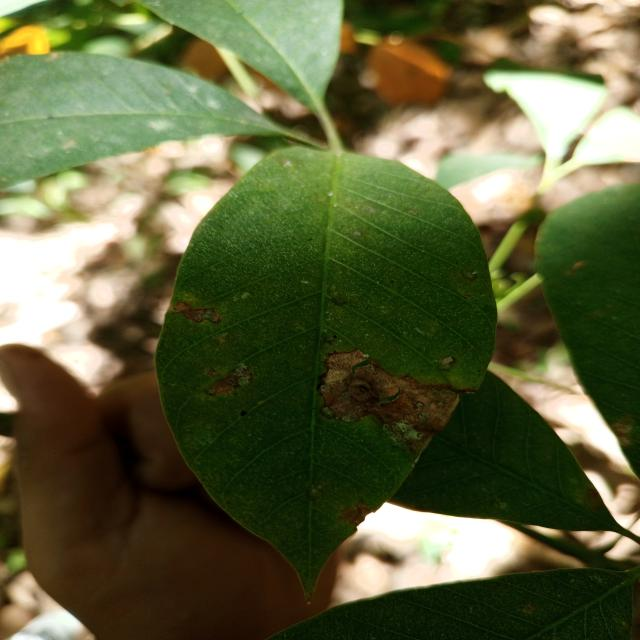Leaf-Blight: (317, 349, 461, 458), (341, 504, 372, 526)
